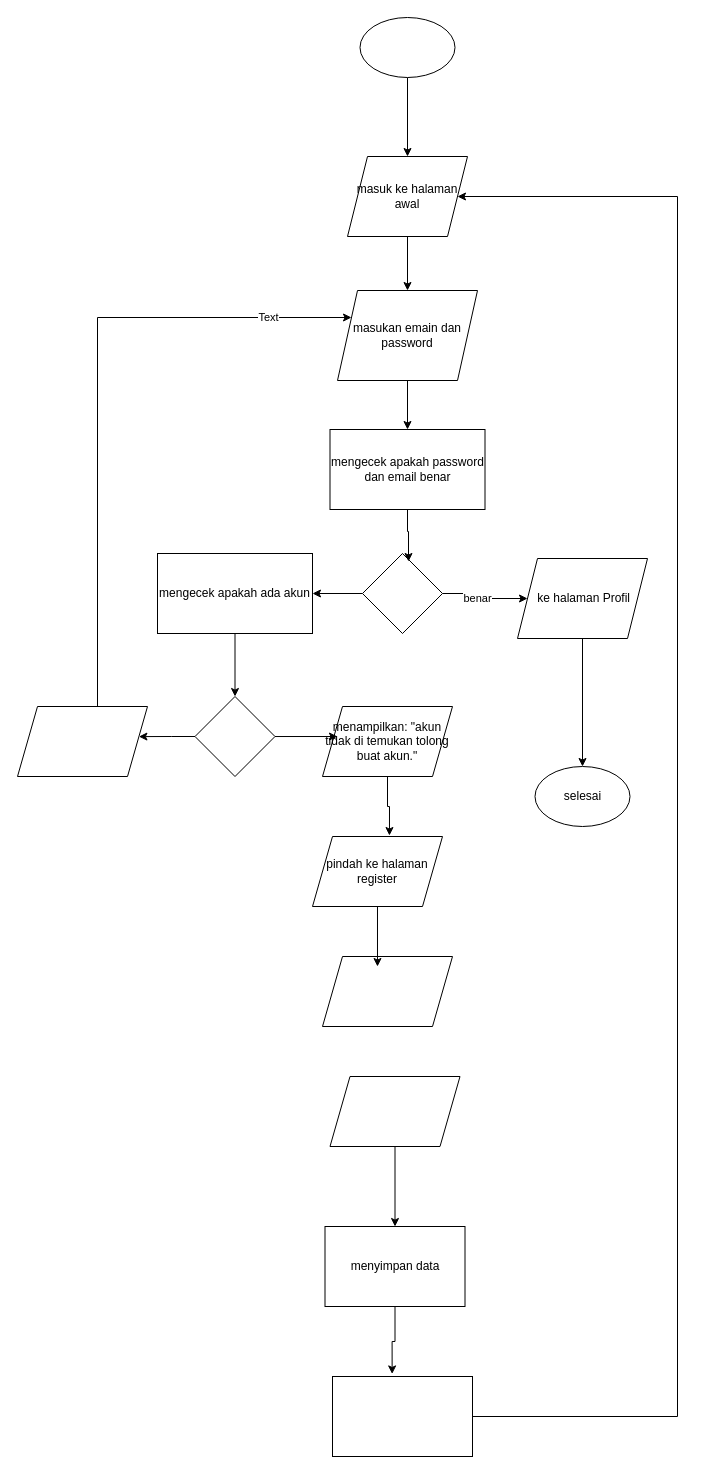
Some shapes in this 703 by 1474 pixel diagram are drawn without their labels. Here are the shapes that lost their labels. From the top down, the centre of each, then its label:
pixel 407 47: mulai
pixel 82 741: menampilkan: "Password atau Email Salah"
pixel 387 991: masukan email dan password
pixel 394 1111: masukan ulang password
pixel 402 1416: buat akun
